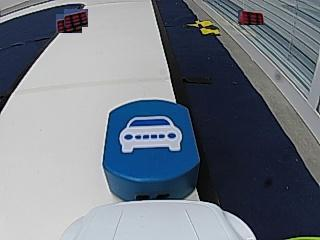safety: (119, 117, 185, 152)
